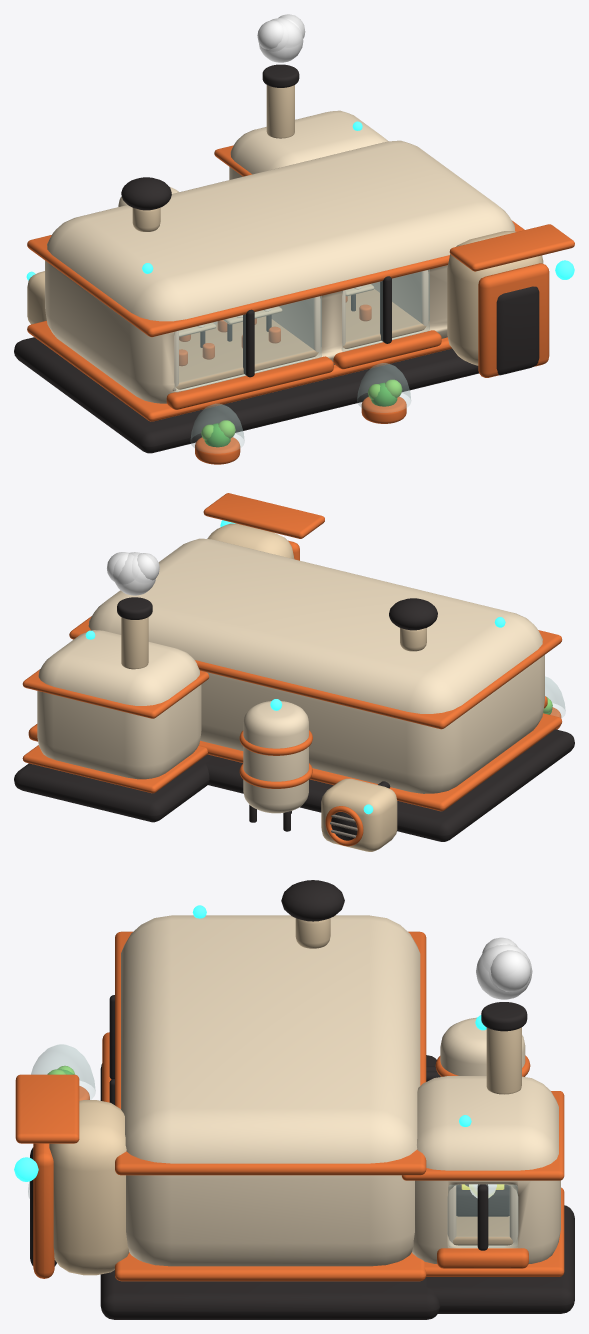
Rendered from canteen-10i.glb.
3 views of the same model, one above another, from view 1: azimuth 30°, elevation 25°; view 2: azimuth 150°, elevation 25°; view 3: azimuth 270°, elevation 25° (orthographic). The views are drawn at different scales.
Visible parts, largest first — view 1: Cube.001, Cube.002, Cube, Cube.009, Cube.007, Cube.004, Cube.003, Sphere.010, Sphere.002, Cylinder.027; view 2: Cube.001, Cube.002, Cube, Cube.007, Sphere.010, Cube.009; view 3: Cube.001, Cube.002, Cube, Cube.007, Cube.009, Sphere.010, Cube.004, Cube.003, Sphere.008.
Part boxes in pixels (x1,y1,x2,y2): Cube.001: (45, 110, 514, 403); Cube.002: (27, 145, 574, 464); Cube: (14, 64, 539, 453); Cube.009: (174, 269, 429, 453); Cube.007: (27, 85, 543, 365); Cube.004: (176, 289, 426, 389); Cube.003: (172, 270, 428, 390); Sphere.010: (257, 14, 305, 62); Sphere.002: (201, 379, 402, 440); Cylinder.027: (204, 382, 397, 447); Cube.001: (37, 538, 544, 813); Cube.002: (22, 493, 562, 846); Cube: (14, 597, 574, 841); Cube.007: (121, 523, 426, 851); Sphere.010: (107, 552, 159, 595); Cube.009: (543, 676, 565, 717); Cube.001: (121, 915, 560, 1266); Cube.002: (15, 931, 564, 1281); Cube: (30, 880, 574, 1319); Cube.007: (49, 918, 521, 1275); Cube.009: (28, 1044, 518, 1247); Sphere.010: (476, 937, 532, 999); Cube.004: (453, 1216, 512, 1245); Cube.003: (447, 1185, 518, 1243); Sphere.008: (14, 905, 486, 1181).
Bounding box in the file's own units: 1.66 × 0.974 × 1.59.
